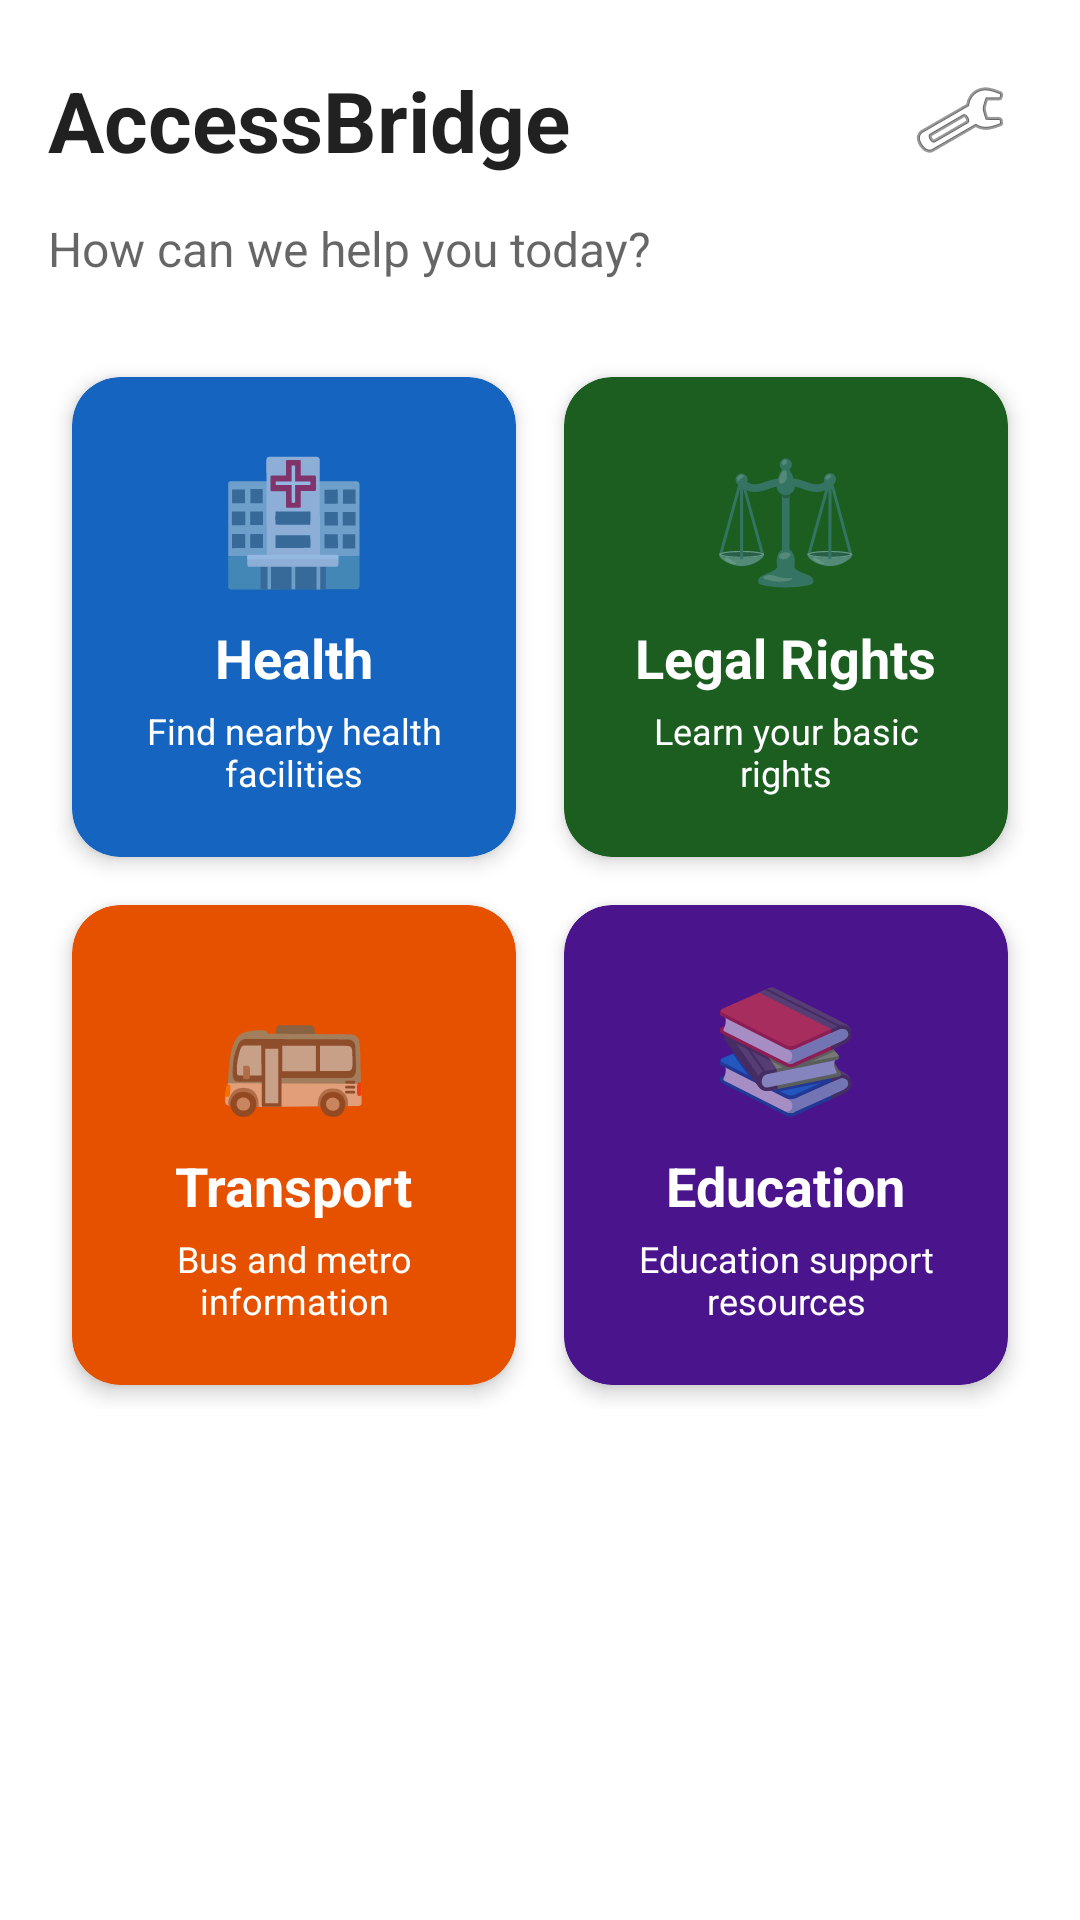

Where to tap for icons on this 1080*1920 app screen, as (x=x, y=y):
Settings: (x=960, y=120)
